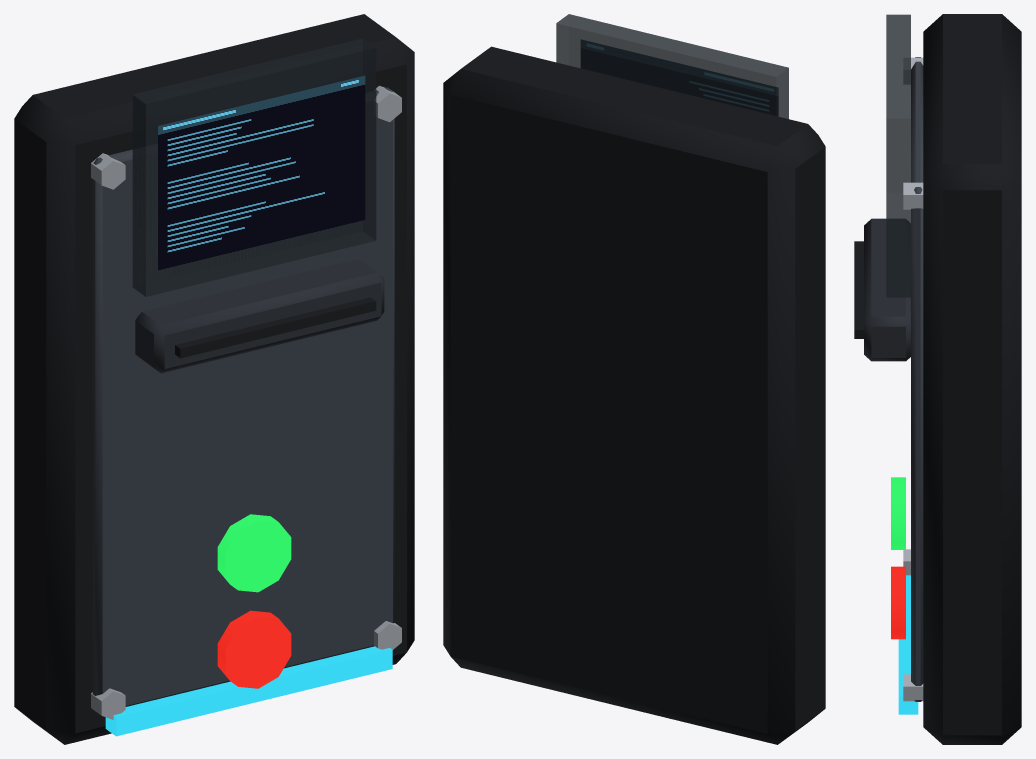
The model's file is controlpanel_card_reader.glb.
The picture shows the model from 3 angles, left to right: view 1: azimuth 30°, elevation 25°; view 2: azimuth 150°, elevation 25°; view 3: azimuth 270°, elevation 25°; orthographic projection. The views are drawn at different scales.
Visible parts, largest first — view 1: controlpanel_card_reader; view 2: controlpanel_card_reader; view 3: controlpanel_card_reader.
Part boxes in pixels (x1,y1,x2,y2): controlpanel_card_reader: (14,14,414,744); controlpanel_card_reader: (443,14,825,744); controlpanel_card_reader: (854,14,1021,744).
Bounding box in the file's own units: 0.16 × 0.27 × 0.068.
9 materials, 1 textured.
